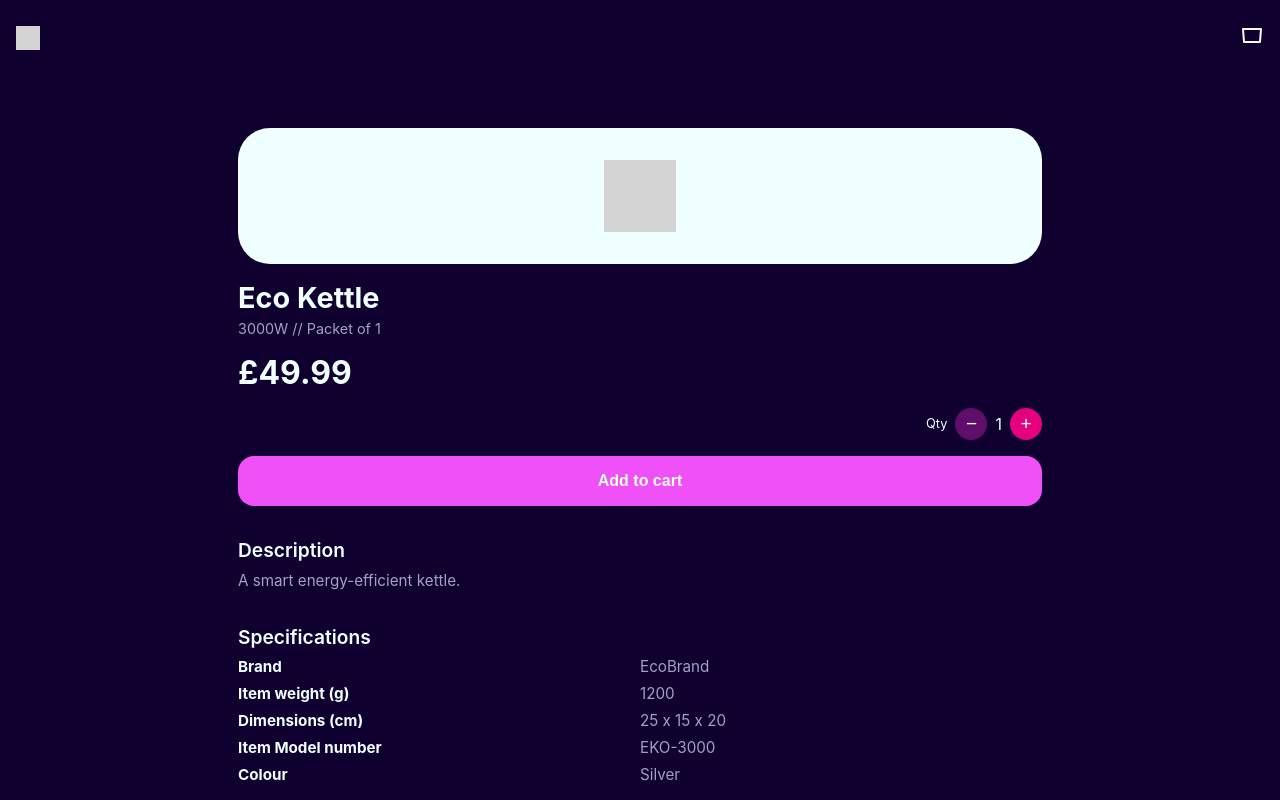
ProductPage › adds to cart and updates badge count
Click the button "Add to cart": (640, 481) x1=238 y1=456 x2=1042 y2=506
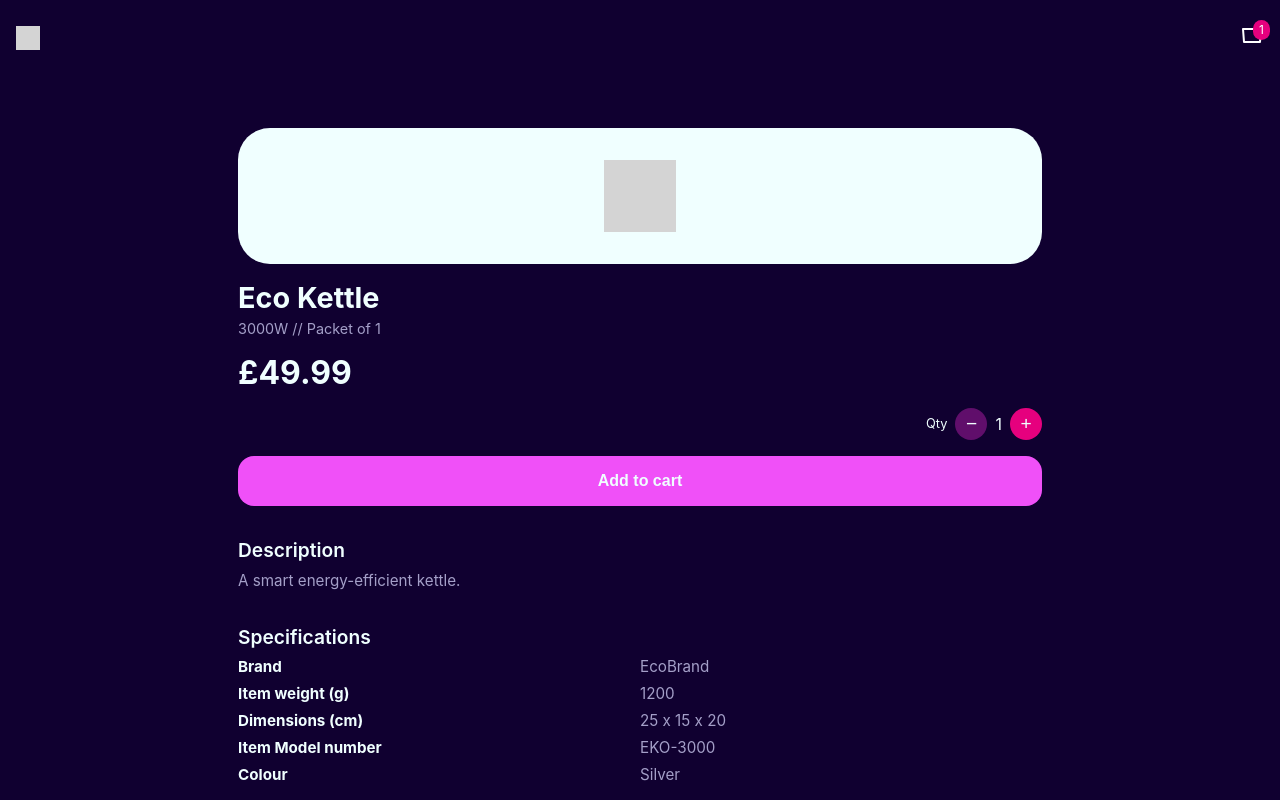
expect the text with test id "cart-badge" reads "1": met, box x1=1259 y1=22 x2=1264 y2=37
